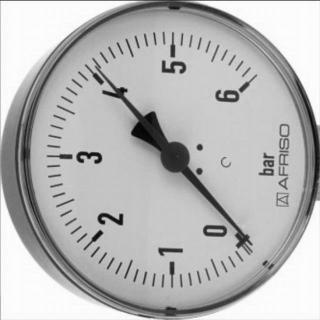gauge: (17, 0, 320, 320), (159, 141, 191, 173), (229, 75, 255, 105), (227, 224, 249, 246), (240, 232, 258, 250), (91, 62, 103, 76)
